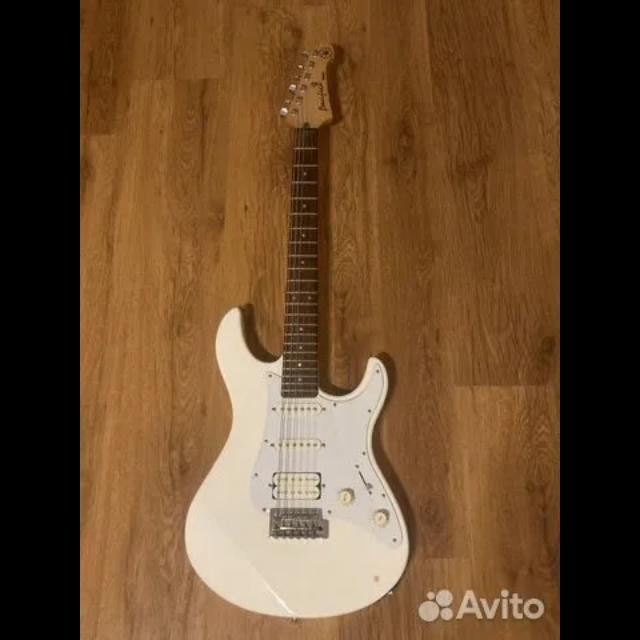Electric-Guitar: (186, 42, 408, 618)
